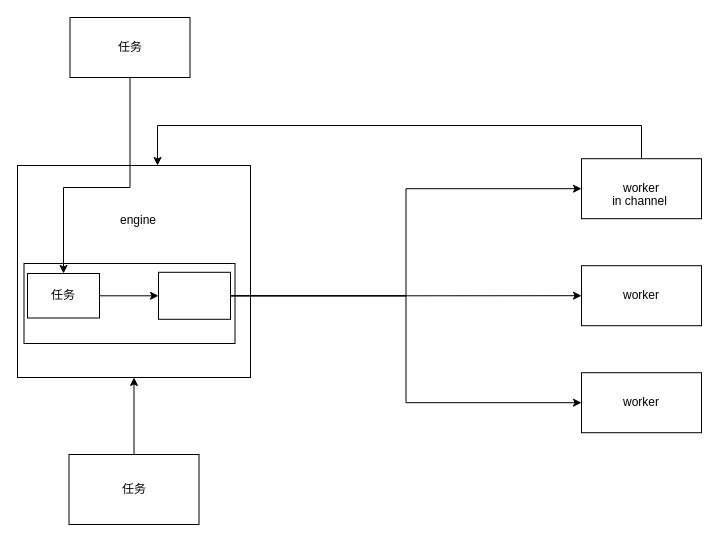
Some shapes in this 719 by 542 pixel diagram are drawn without their labels. The shapes that lost their labels are listed below. From the top down, each one's box as (x1, y1, x2, y2) in pixels, then its label:
(23, 262, 235, 344): 调度器
(158, 271, 230, 319): 分发任务 channel
